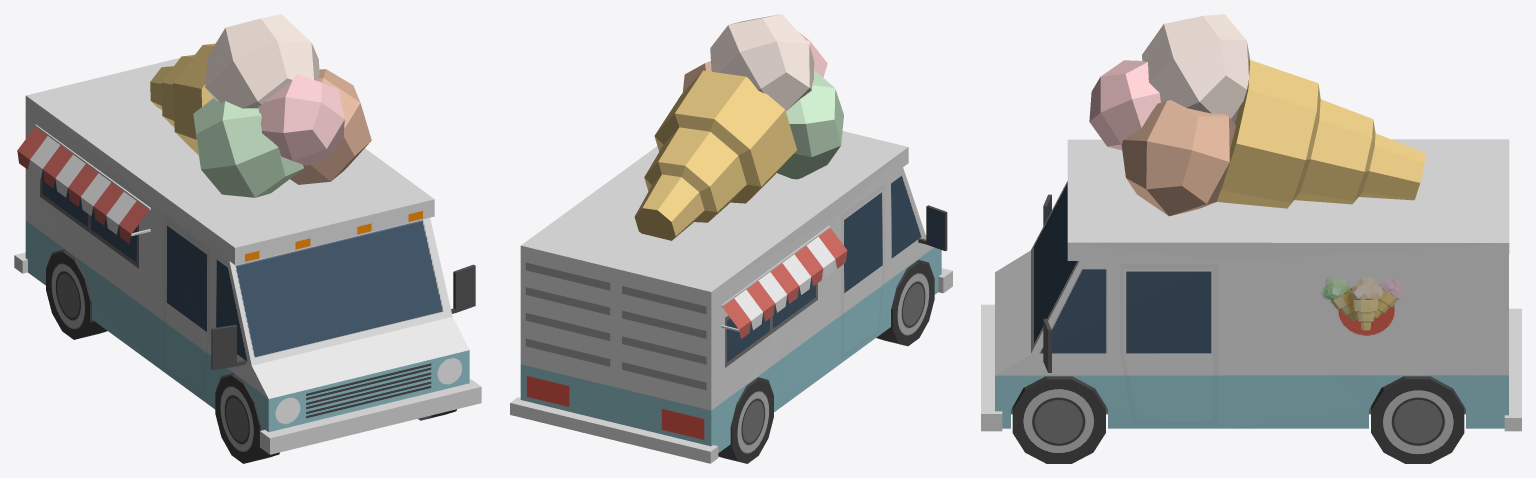
The model's file is IceCreamVan.fbx.
The picture shows the model from 3 angles, left to right: view 1: azimuth 30°, elevation 25°; view 2: azimuth 150°, elevation 25°; view 3: azimuth 270°, elevation 25°; orthographic projection. The views are drawn at different scales.
Parts seen in each view (by area): view 1: IceCreamVan; view 2: IceCreamVan; view 3: IceCreamVan.
Part boxes in pixels (bbox=[...]): IceCreamVan: bbox=[14, 14, 481, 463]; IceCreamVan: bbox=[510, 14, 952, 463]; IceCreamVan: bbox=[981, 14, 1521, 463].
Size of the model in its own units: 283 by 379 by 476.
